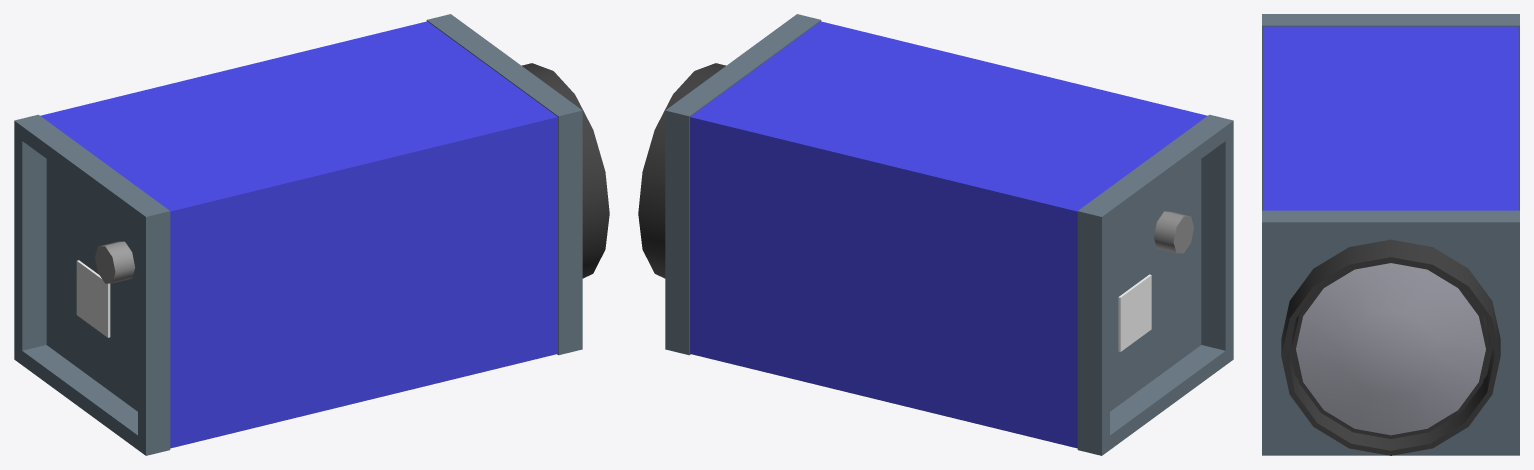
The model's file is tis_zoom_cam.glb.
The picture shows the model from 3 angles, left to right: view 1: azimuth 30°, elevation 25°; view 2: azimuth 150°, elevation 25°; view 3: azimuth 270°, elevation 25°; orthographic projection. The views are drawn at different scales.
Visible parts, largest first — view 1: tis_zoom_cam; view 2: tis_zoom_cam; view 3: tis_zoom_cam.
Part boxes in pixels (x1,y1,x2,y2): tis_zoom_cam: (14, 14, 609, 455); tis_zoom_cam: (638, 14, 1233, 455); tis_zoom_cam: (1262, 14, 1519, 455).
Size of the model in its own units: 0.1464 by 0.0706 by 0.0706.
